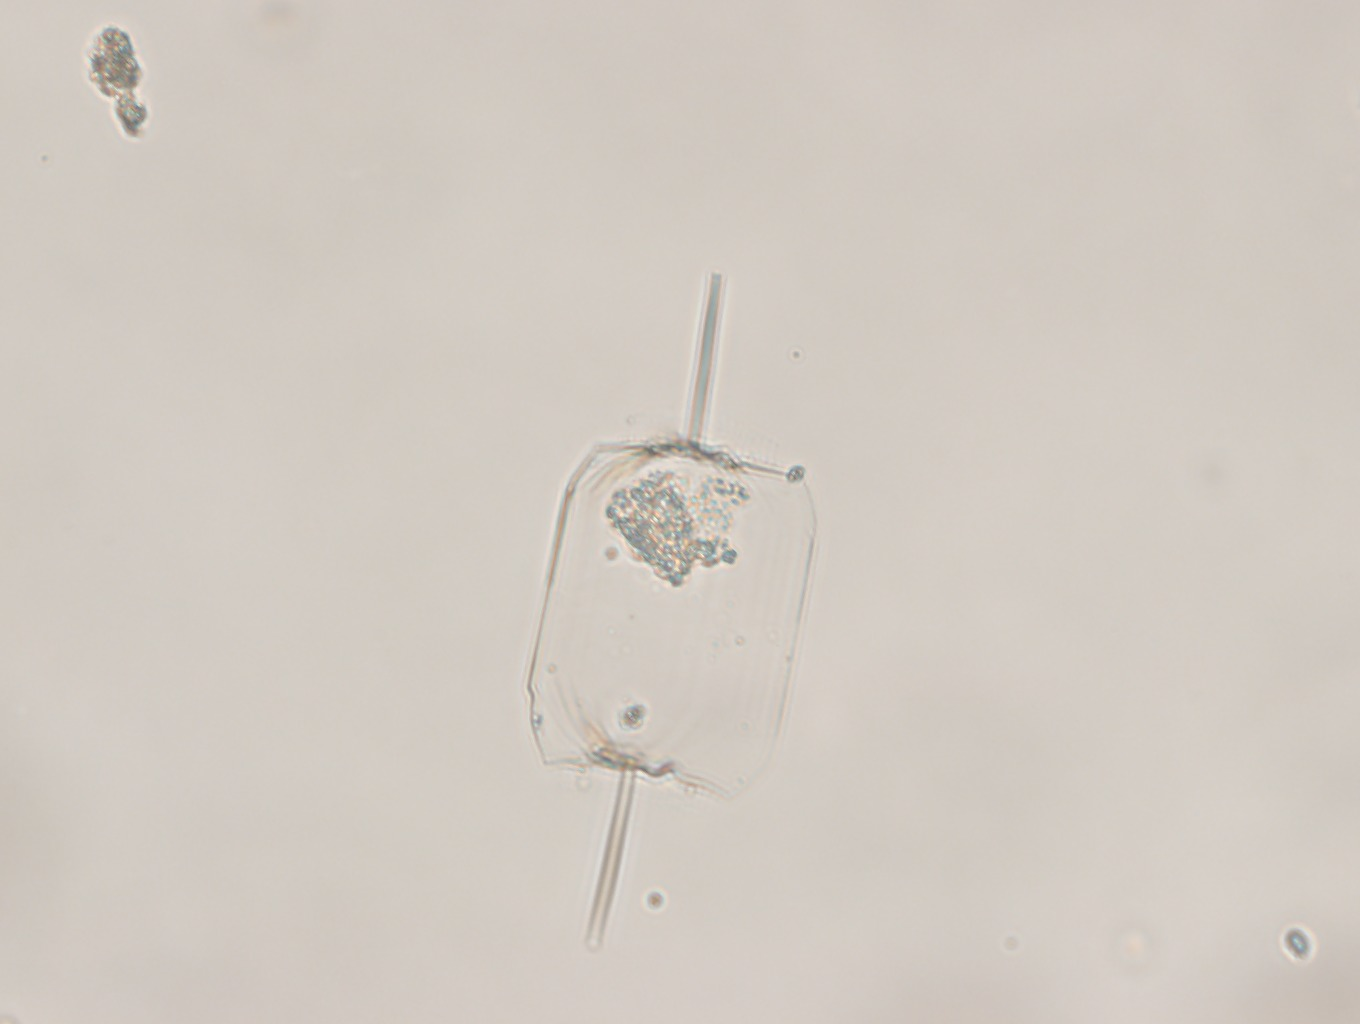ditylum: (525, 276, 819, 953)
